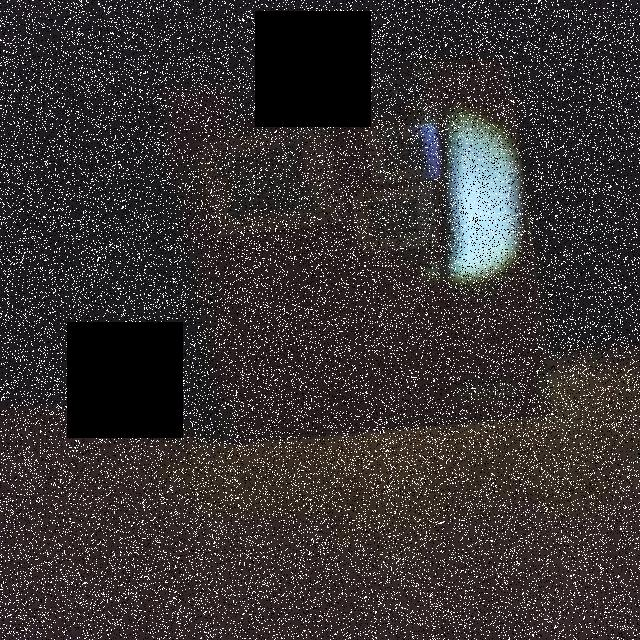QR_CODE: (206, 136, 320, 228), (360, 194, 436, 248), (373, 130, 438, 178)
